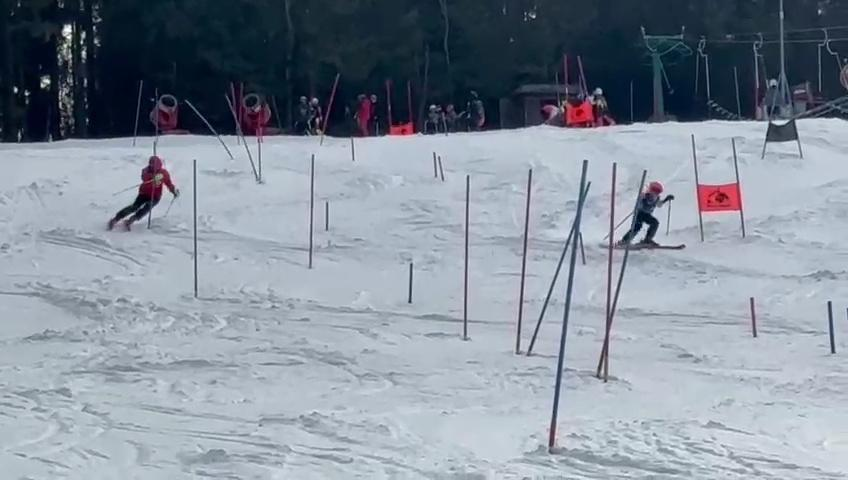gate: (548, 151, 595, 459), (531, 168, 591, 368), (600, 164, 648, 391), (452, 173, 481, 344), (185, 154, 216, 298), (184, 95, 243, 168), (512, 159, 534, 353), (217, 96, 259, 194), (775, 77, 815, 164), (298, 144, 320, 269), (726, 133, 753, 234), (690, 125, 712, 245), (309, 71, 343, 146), (754, 74, 780, 166), (248, 102, 271, 188), (739, 288, 763, 349), (127, 77, 146, 143), (391, 260, 417, 306), (819, 300, 834, 359), (151, 89, 161, 148), (320, 198, 335, 237), (430, 145, 446, 181), (350, 134, 356, 161)
